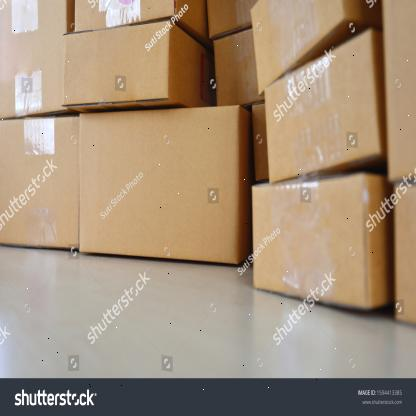box: (75, 102, 243, 267), (268, 26, 385, 189), (250, 171, 367, 314), (0, 115, 78, 250), (61, 23, 170, 110)
